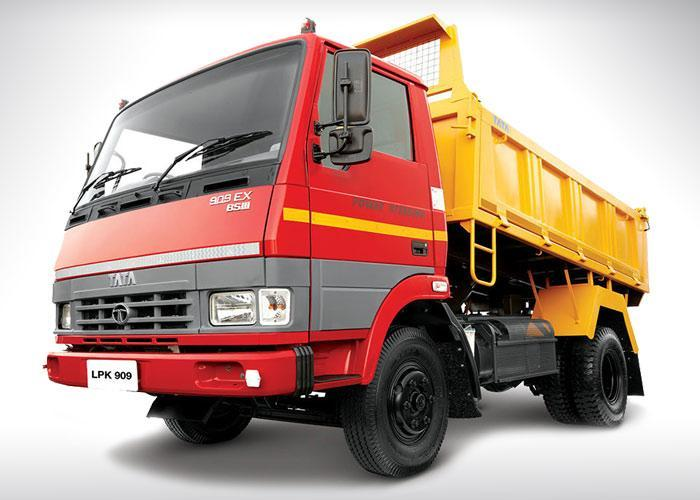truck: (44, 14, 650, 479)
